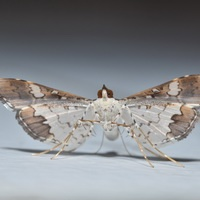insect: (0, 74, 199, 167)
